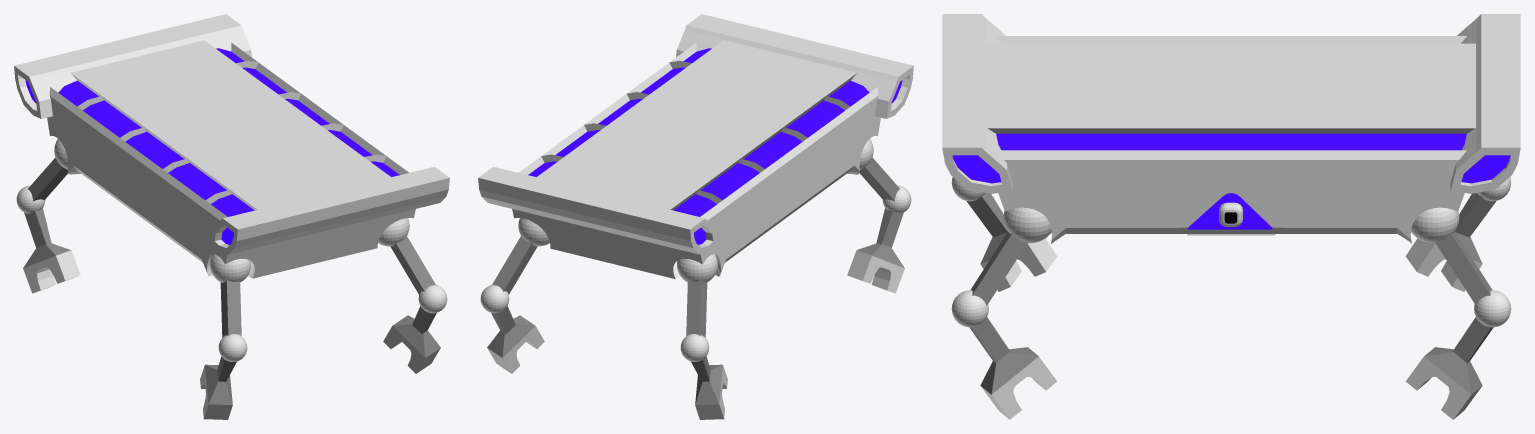
File: trashbot_movingplatform.fbx
3 renders of one model, left to right at view 1: azimuth 30°, elevation 25°; view 2: azimuth 150°, elevation 25°; view 3: azimuth 270°, elevation 25°, orthographic. The views are drawn at different scales.
Parts seen in each view (by area): view 1: MovingPlatform_Trash; view 2: MovingPlatform_Trash; view 3: MovingPlatform_Trash.
Part boxes in pixels (x1,y1,x2,y2): MovingPlatform_Trash: [14, 14, 449, 419]; MovingPlatform_Trash: [478, 14, 913, 419]; MovingPlatform_Trash: [942, 14, 1520, 419].
Bounding box in the file's own units: 628 × 541 × 1048.
